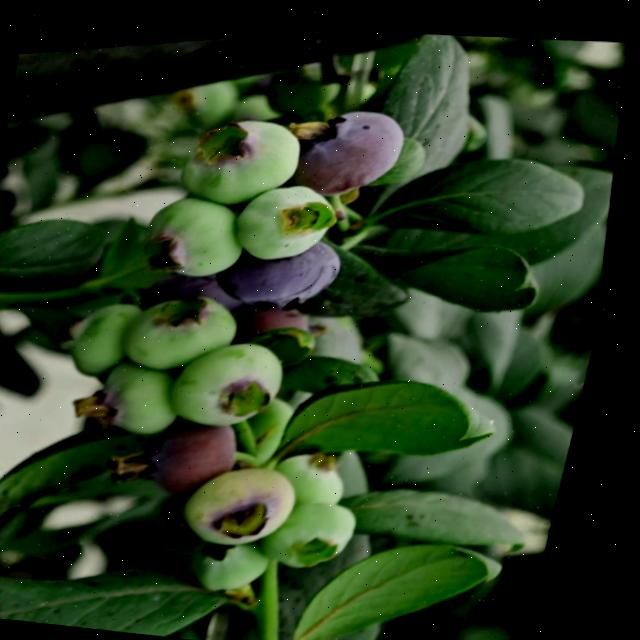RipeBlueBerry: (281, 85, 427, 208), (218, 221, 362, 323)
Semi-RipeBlueBerry: (144, 403, 264, 505)
UnripeBlueBerry: (171, 93, 323, 215), (117, 268, 264, 382), (172, 320, 310, 440), (188, 445, 328, 561), (139, 175, 264, 286), (229, 163, 354, 268)
